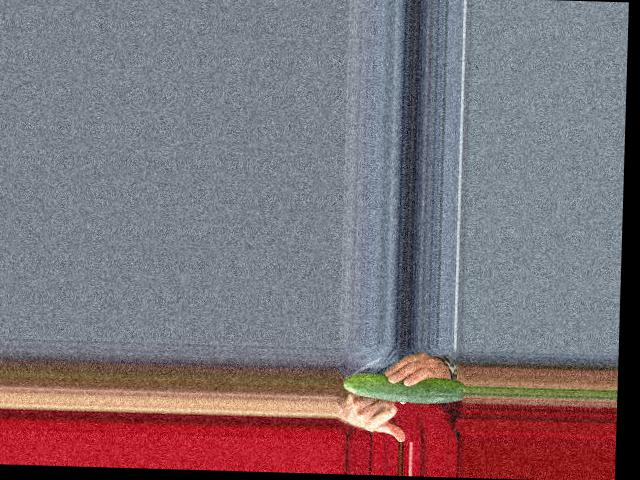cucumber: (343, 371, 466, 404)
